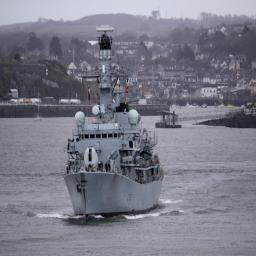Fragata: (63, 23, 165, 223)
